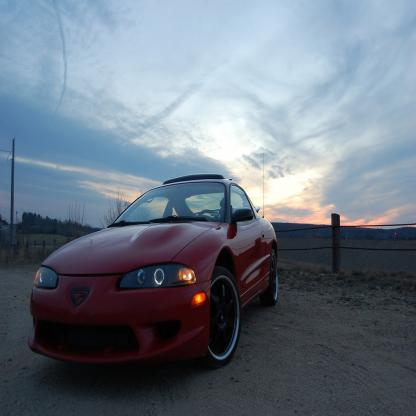Vehicle: (25, 177, 281, 369)
